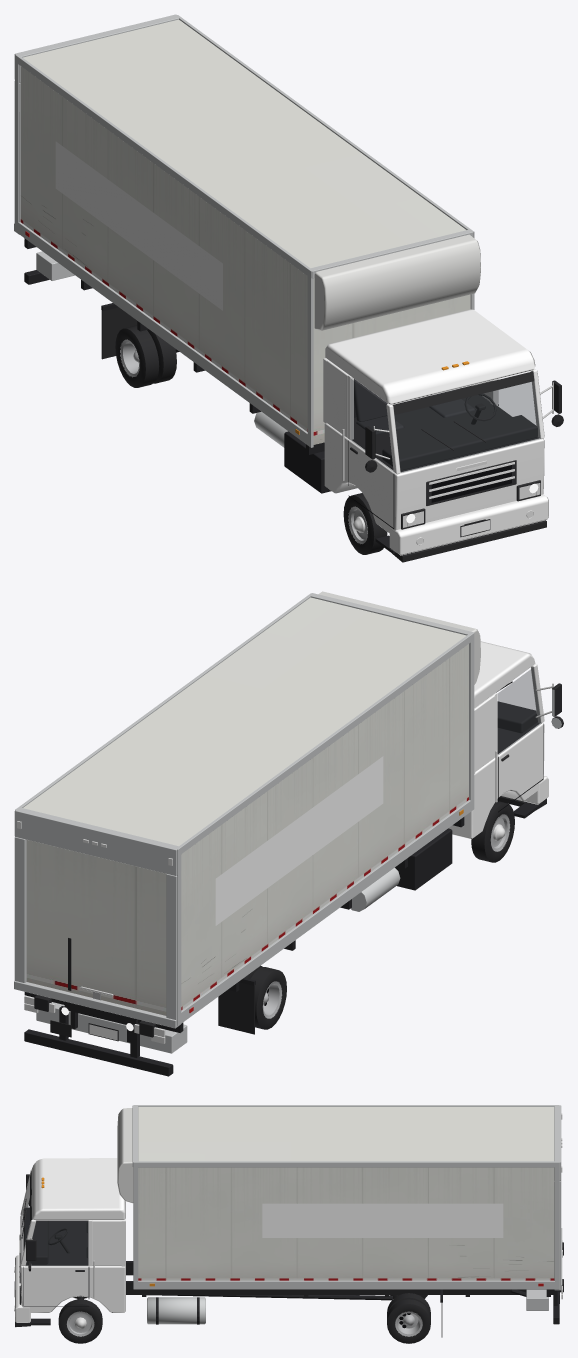
File: truck.glb
The picture shows the model from 3 angles, top to bottom: view 1: azimuth 30°, elevation 25°; view 2: azimuth 150°, elevation 25°; view 3: azimuth 270°, elevation 25°; orthographic projection. The views are drawn at different scales.
Parts seen in each view (by area): view 1: body, decal:truck, wheel_fr; view 2: body, decal:truck, wheel_fr; view 3: body, decal:truck, wheel_fl, wheel_rl.
Part boxes in pixels (x1,y1,x2,y2): body: [14, 14, 563, 562]; decal:truck: [55, 141, 222, 310]; wheel_fr: [343, 493, 387, 554]; body: [14, 591, 563, 1076]; decal:truck: [215, 756, 383, 925]; wheel_fr: [471, 801, 514, 862]; body: [14, 1105, 563, 1343]; decal:truck: [262, 1203, 503, 1237]; wheel_fl: [58, 1299, 102, 1343]; wheel_rl: [387, 1297, 430, 1332].
Bounding box in the file's own units: 3.05 × 3.8 × 10.22.
10 materials, 2 textured.
